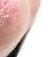plaque psoriasis: (0, 0, 19, 51)
